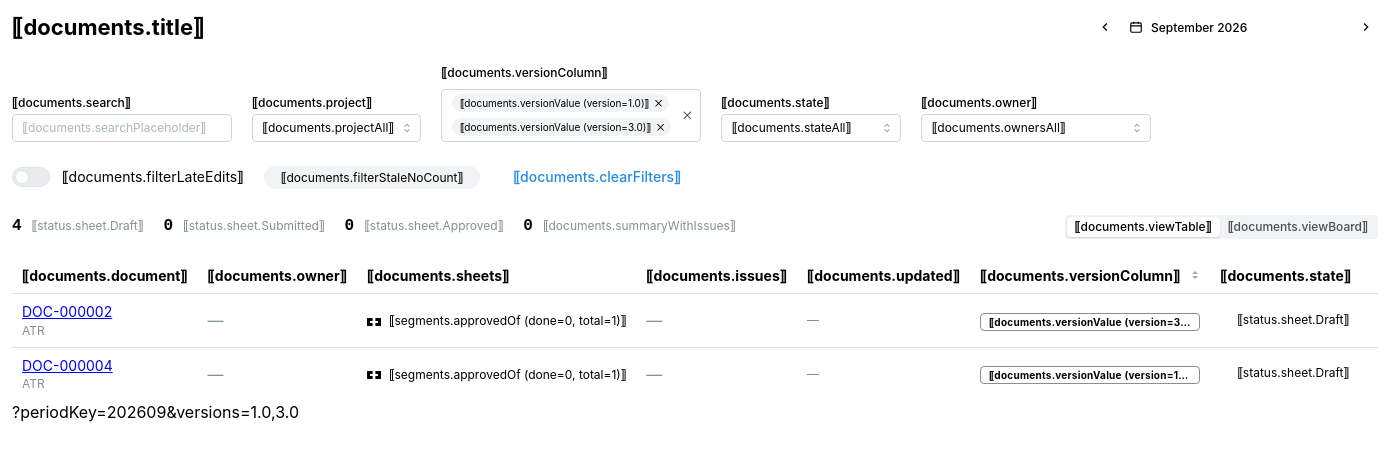
it: DocumentsPage: колонка «Version» › фільтр за версіями (з адреси) лишає точні збіги за версією періоду; «Clear filters» його знімає
Expected: the link "DOC-000002" is shown, [22,303,112,320]
Click the button "⟦documents.clearFilters⟧" at (597, 177), box [500,163,694,191]
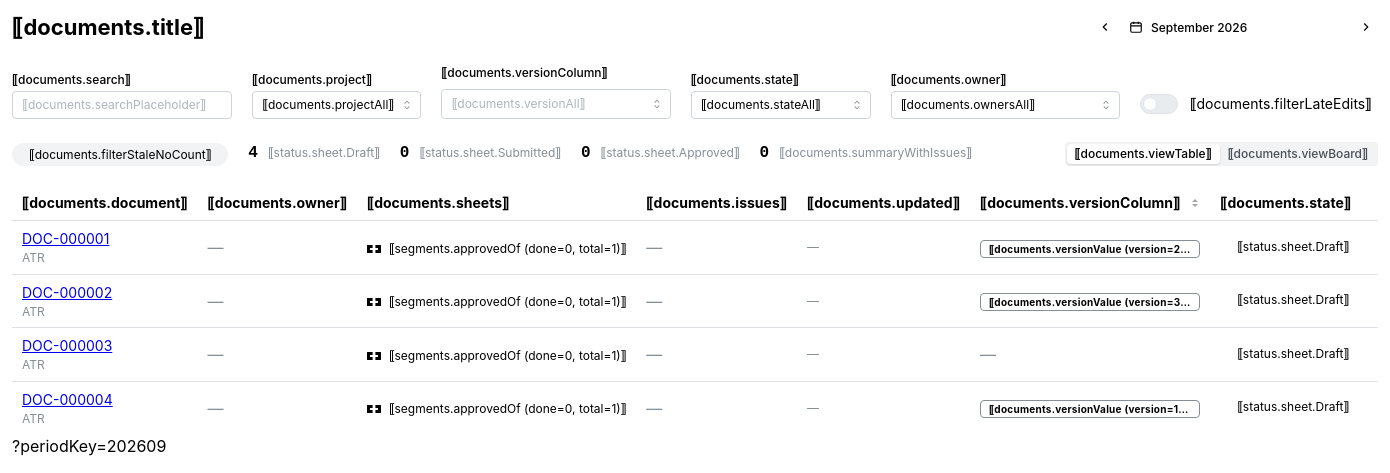
Result: the number of links is 4 at [22,230,109,248]; [22,284,112,301]; [22,337,112,354]; [22,391,113,408]
Result: the text with test id "location" reads "?periodKey=202609" at [12,436,166,456]
